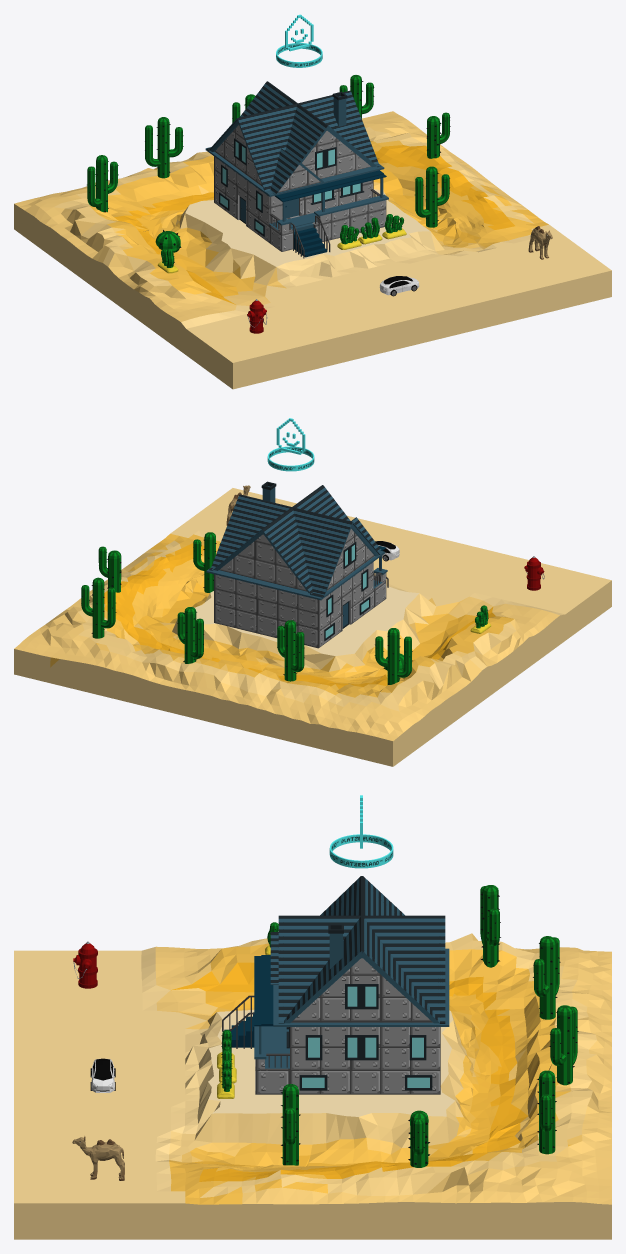
The picture shows the model from 3 angles, top to bottom: view 1: azimuth 30°, elevation 25°; view 2: azimuth 150°, elevation 25°; view 3: azimuth 270°, elevation 25°; orthographic projection. The views are drawn at different scales.
Parts seen in each view (by area): view 1: Cube.001, Cube.078, Cylinder.044, Cylinder.037, Cylinder.045, TYPE_PREMIUM, Cylinder.038, Cylinder.042, VEHICLES_TESLA; view 2: Cube.001, Cube.078, Cylinder.042, Cylinder.045, Cylinder.044, Cylinder.043, TYPE_PREMIUM, Cylinder.037, Cylinder.038, OBJRANDOM_FIRE_HYDRANT; view 3: Cube.001, Cube.078, Cylinder.044, Cylinder.043, Cylinder.045, Cylinder.042, Cylinder.037, TYPE_PREMIUM, Cylinder.038, ANIMAL_CAMELLO, OBJRANDOM_FIRE_HYDRANT, VEHICLES_TESLA.
Boxes of the visible parts, x1,y1,x2,y2 form: Cube.001: (14, 111, 611, 389); Cube.078: (205, 81, 388, 258); Cylinder.044: (145, 117, 183, 178); Cylinder.037: (415, 166, 449, 227); Cylinder.045: (87, 155, 118, 212); TYPE_PREMIUM: (276, 14, 322, 67); Cylinder.038: (426, 112, 450, 158); Cylinder.042: (339, 75, 374, 118); VEHICLES_TESLA: (379, 276, 419, 296); Cube.001: (14, 488, 611, 766); Cube.078: (206, 481, 388, 648); Cylinder.042: (81, 577, 116, 638); Cylinder.045: (374, 628, 412, 684); Cylinder.044: (277, 620, 304, 681); Cylinder.043: (177, 607, 203, 663); TYPE_PREMIUM: (267, 418, 314, 471); Cylinder.037: (193, 532, 220, 592); Cylinder.038: (98, 546, 121, 592); OBJRANDOM_FIRE_HYDRANT: (524, 556, 544, 590); Cube.001: (14, 933, 611, 1239); Cube.078: (222, 876, 449, 1094); Cylinder.044: (533, 936, 560, 1019); Cylinder.043: (549, 1005, 578, 1085); Cylinder.045: (480, 885, 500, 967); Cylinder.042: (537, 1070, 556, 1154); Cylinder.037: (281, 1084, 300, 1165); TYPE_PREMIUM: (329, 795, 393, 868); Cylinder.038: (408, 1110, 429, 1167); ANIMAL_CAMELLO: (72, 1136, 124, 1180); OBJRANDOM_FIRE_HYDRANT: (73, 941, 97, 988); VEHICLES_TESLA: (90, 1058, 115, 1092).
Size of the model in its own units: 4002 by 2437 by 4001.
Materials: 32 (5 with a texture image).
